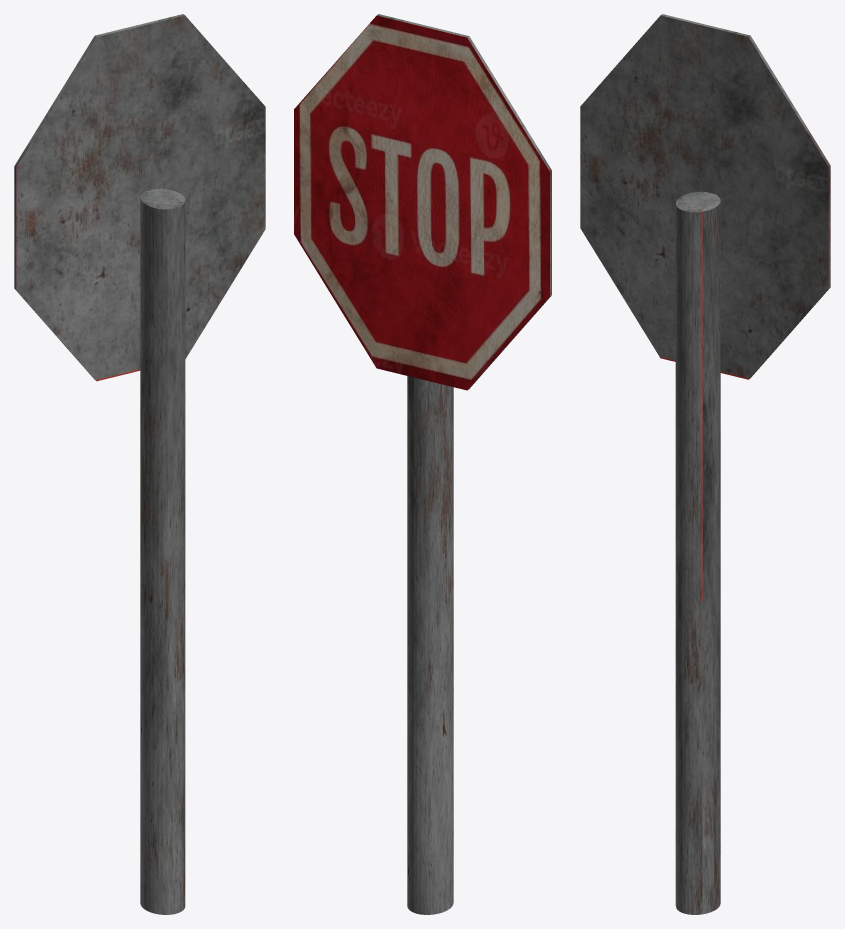
The model's file is StopSign.fbx.
The picture shows the model from 3 angles, left to right: view 1: azimuth 30°, elevation 25°; view 2: azimuth 150°, elevation 25°; view 3: azimuth 330°, elevation 25°; orthographic projection. The views are drawn at different scales.
Parts seen in each view (by area): view 1: Stopsign; view 2: Stopsign; view 3: Stopsign.
Part boxes in pixels (box(x1,y1,x2,y2)): Stopsign: box(14, 14, 265, 914); Stopsign: box(294, 14, 551, 914); Stopsign: box(580, 14, 830, 914).
Size of the model in its own units: 68.35 by 228 by 14.52.
1 material, 1 textured.
